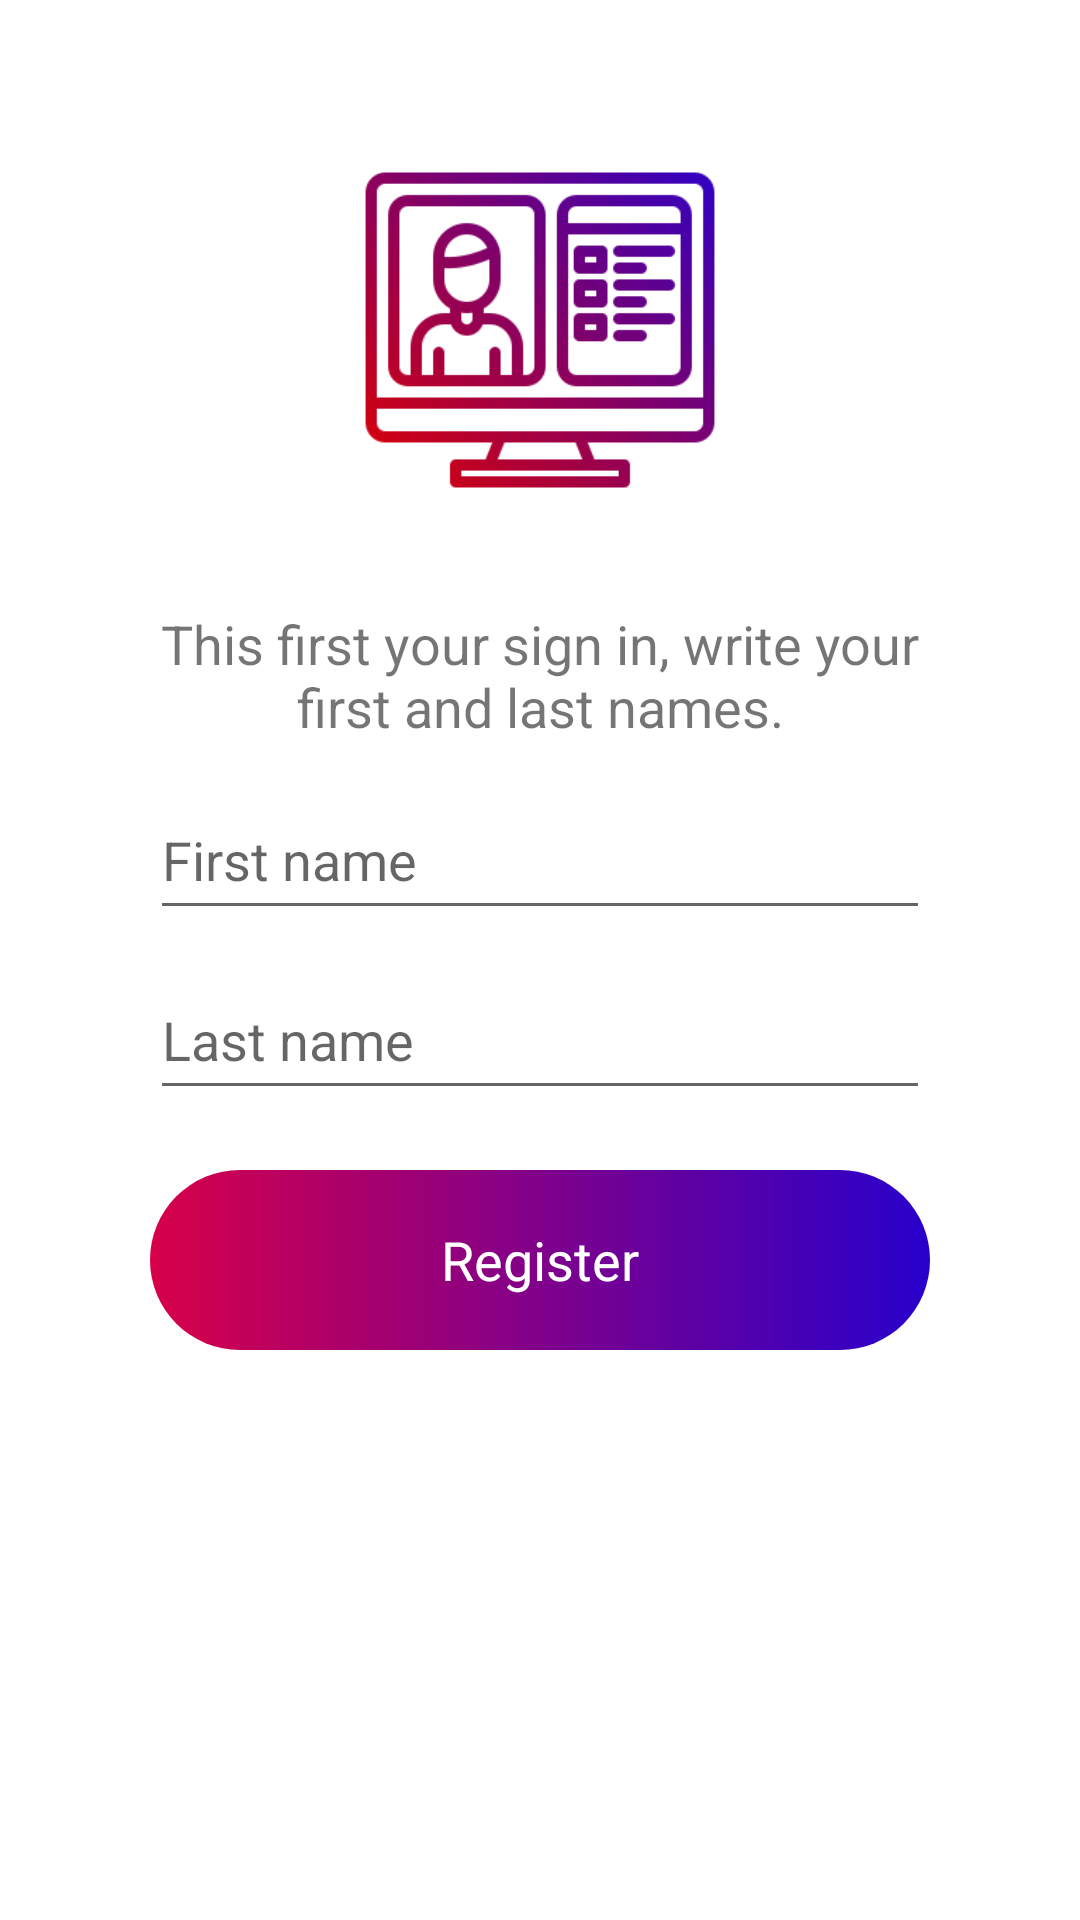

Where icons sit on this 1080px x 1920px app screen, as bbox=(x1, y1, x2, y2):
register: bbox=(365, 172, 715, 488)
